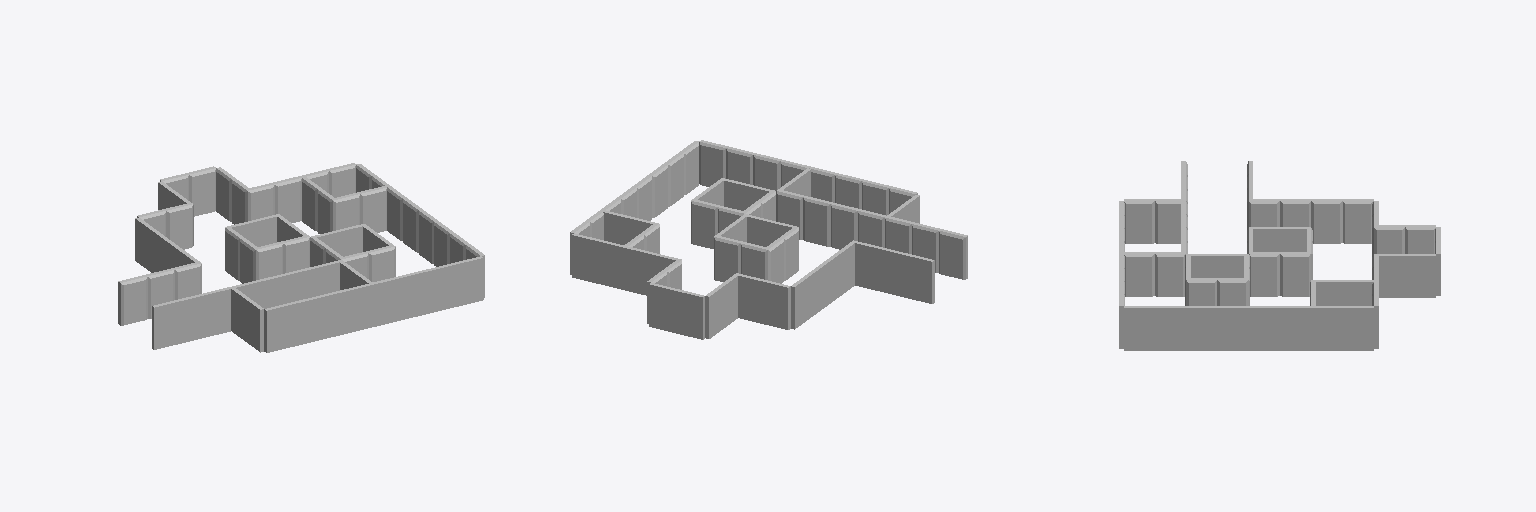
File: lvl4-bottom-walls.obj
3 views of the same model, side by side, from view 1: azimuth 30°, elevation 25°; view 2: azimuth 150°, elevation 25°; view 3: azimuth 270°, elevation 25° (orthographic).
Parts seen in each view (by area): view 1: WallTile:Mesh1.003_WallTile:Mesh1.005; view 2: WallTile:Mesh1.003_WallTile:Mesh1.005; view 3: WallTile:Mesh1.003_WallTile:Mesh1.005.
Boxes of the visible parts, x1,y1,x2,y2 form: WallTile:Mesh1.003_WallTile:Mesh1.005: [118, 163, 484, 352]; WallTile:Mesh1.003_WallTile:Mesh1.005: [570, 140, 967, 339]; WallTile:Mesh1.003_WallTile:Mesh1.005: [1119, 161, 1440, 350].
Size of the model in its own units: 22.3 by 3 by 20.6.